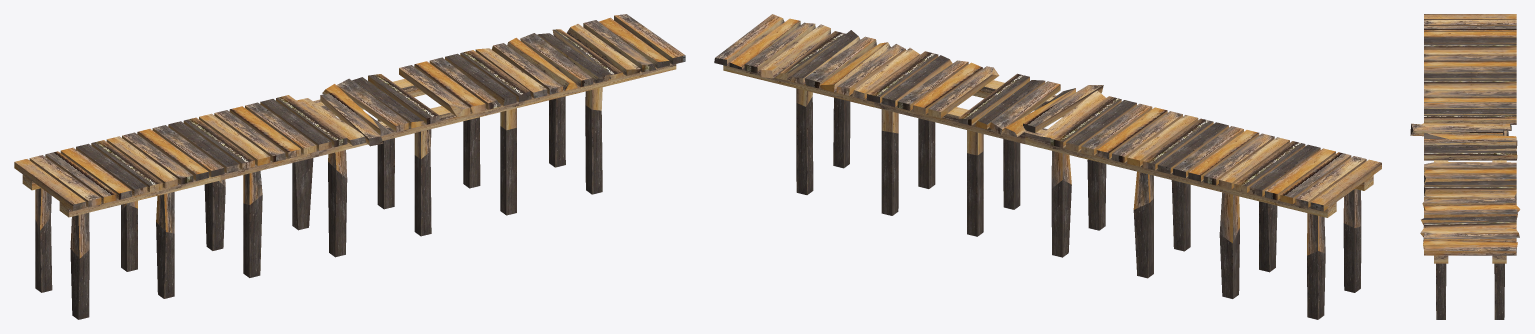
The model's file is broken_wooden_dock_ps1.glb.
3 renders of one model, left to right at view 1: azimuth 30°, elevation 25°; view 2: azimuth 150°, elevation 25°; view 3: azimuth 270°, elevation 25°, orthographic. The views are drawn at different scales.
Parts seen in each view (by area): view 1: Cube; view 2: Cube; view 3: Cube.
Boxes of the visible parts, x1,y1,x2,y2 form: Cube: (14,14,685,319); Cube: (714,14,1381,319); Cube: (1410,14,1520,319).
Bounding box in the file's own units: 18.32 × 3.6 × 3.6.
1 material, 1 textured.
